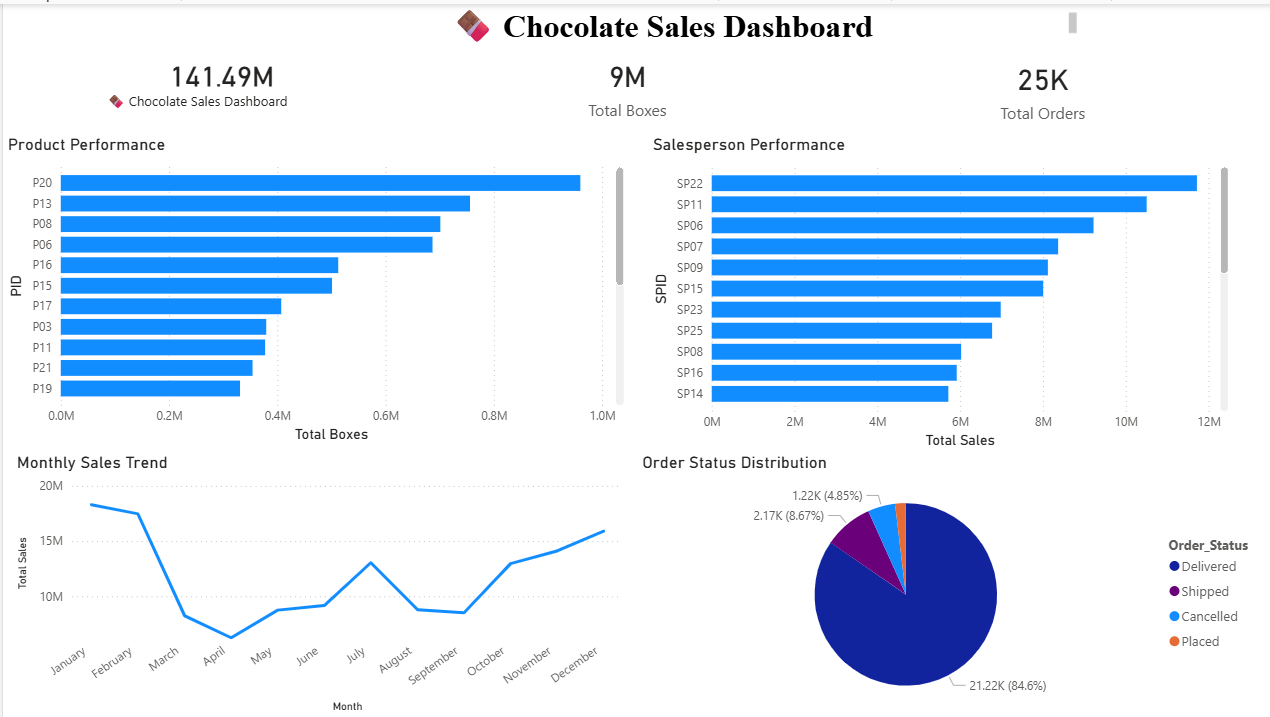

This screenshot's page, from the dashboard's own definition file:
{"tool":"powerbi","page":{"name":"Page 1","canvas":[1280,720],"ordinal":0},"visuals":[{"type":"clusteredBarChart","title":"Product Performance","fields":{"Category":["chocolate_sales chocolates_table.PID"],"Y":["chocolate_sales chocolates_table.Total Boxes"]},"box":[0,131.7,631.4,315],"z":0},{"type":"clusteredBarChart","title":"Salesperson Performance","fields":{"Category":["chocolate_sales chocolates_table.SPID"],"Y":["chocolate_sales chocolates_table.Total Sales"]},"box":[651.1,131.7,590.5,321],"z":1000},{"type":"pieChart","title":"Order Status Distribution","fields":{"Category":["chocolate_sales chocolates_table.Order_Status"],"Y":["CountNonNull(chocolate_sales chocolates_table.ShipmentID)"]},"box":[640.5,452.7,639,266.5],"z":2000},{"type":"lineChart","title":"Monthly Sales Trend","fields":{"Category":["chocolate_sales chocolates_table.Shipdate.Variation.Date Hierarchy.Month"],"Y":["chocolate_sales chocolates_table.Total Sales"]},"box":[9.1,452.7,620.8,266.5],"z":3000},{"type":"card","fields":{"Values":["chocolate_sales chocolates_table.Total Sales"]},"box":[0,33.3,440.6,98.4],"z":3001},{"type":"card","fields":{"Values":["chocolate_sales chocolates_table.Total Boxes"]},"box":[440.6,33.3,378.6,98.4],"z":3002},{"type":"card","fields":{"Values":["chocolate_sales chocolates_table.Total Orders"]},"box":[819.2,33.3,460.3,104.5],"z":3003},{"type":"textbox","box":[99.9,83.3,299.8,48.5],"z":3004},{"type":"textbox","box":[249.8,0,838.9,45.4],"z":3005}]}

Visuals, with their boxes in screenshot pixels (x1, y1, x2, y2), scaled from the page's 1280x720 canvas onto the 1270x717 screenshot:
"Product Performance" clusteredBarChart: region(0, 131, 626, 445)
"Salesperson Performance" clusteredBarChart: region(646, 131, 1232, 451)
"Order Status Distribution" pieChart: region(635, 451, 1269, 716)
"Monthly Sales Trend" lineChart: region(9, 451, 625, 716)
card - chocolate_sales chocolates_table.Total Sales: region(0, 33, 437, 131)
card - chocolate_sales chocolates_table.Total Boxes: region(437, 33, 813, 131)
card - chocolate_sales chocolates_table.Total Orders: region(813, 33, 1269, 137)
textbox: region(99, 83, 397, 131)
textbox: region(248, 0, 1080, 45)
